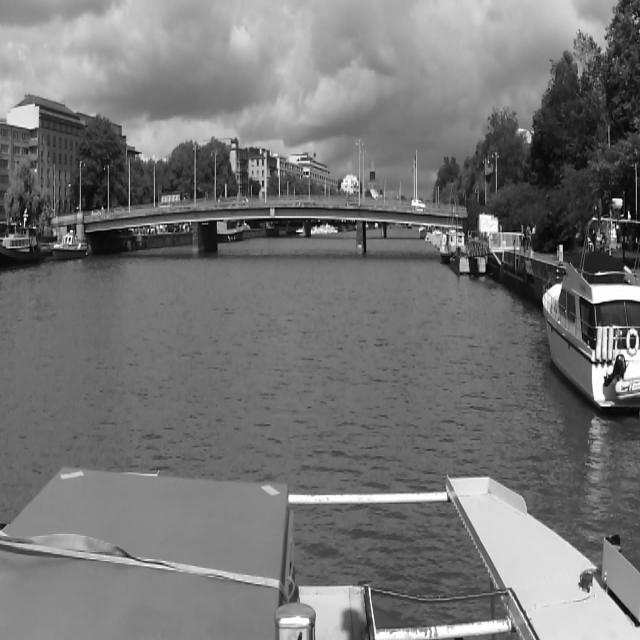ship: (539, 190, 640, 421), (0, 222, 44, 274), (50, 228, 90, 266), (428, 230, 452, 248)
